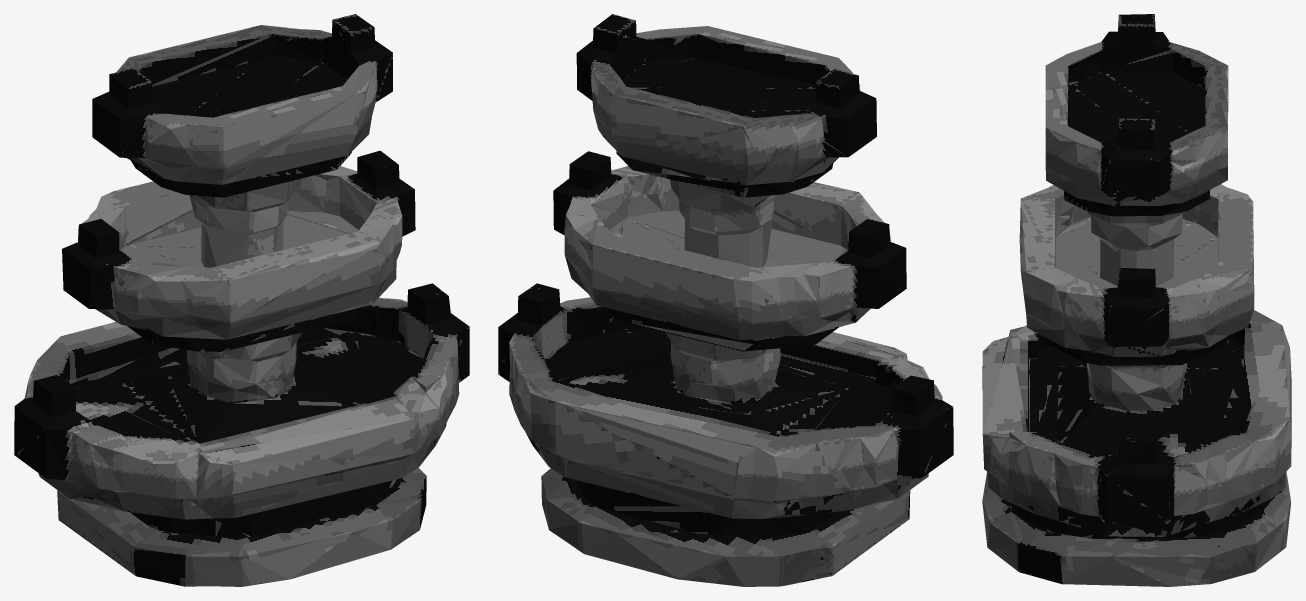
3 views of the same model, side by side, from view 1: azimuth 30°, elevation 25°; view 2: azimuth 150°, elevation 25°; view 3: azimuth 270°, elevation 25° (orthographic). The views are drawn at different scales.
Visible parts, largest first — view 1: OBJ12e; view 2: OBJ12e; view 3: OBJ12e.
Boxes of the visible parts, left/top/right/bottom form: OBJ12e: left=14, top=14, right=469, bottom=586; OBJ12e: left=498, top=14, right=953, bottom=586; OBJ12e: left=982, top=14, right=1291, bottom=586.
Bounding box in the file's own units: 0.3621 × 0.3778 × 0.2376.
Materials: 1 (1 with a texture image).
